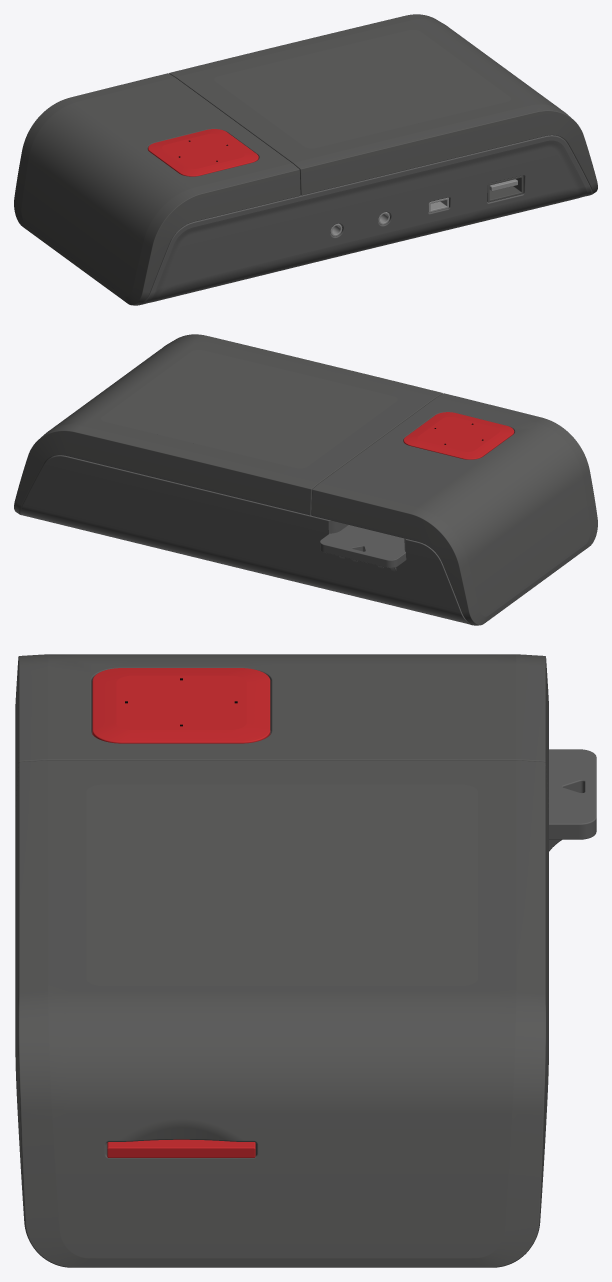
3 renders of one model, top to bottom at view 1: azimuth 30°, elevation 25°; view 2: azimuth 150°, elevation 25°; view 3: azimuth 270°, elevation 25°, orthographic. The views are drawn at different scales.
Visible parts, largest first — view 1: group_1; view 2: group_1; view 3: group_1.
Boxes of the visible parts, x1=… form: group_1: x1=14, y1=14, x2=597, y2=305; group_1: x1=14, y1=334, x2=597, y2=625; group_1: x1=15, y1=654, x2=596, y2=1267.
Bounding box in the file's own units: 0.005 × 0.00118 × 0.00272.
